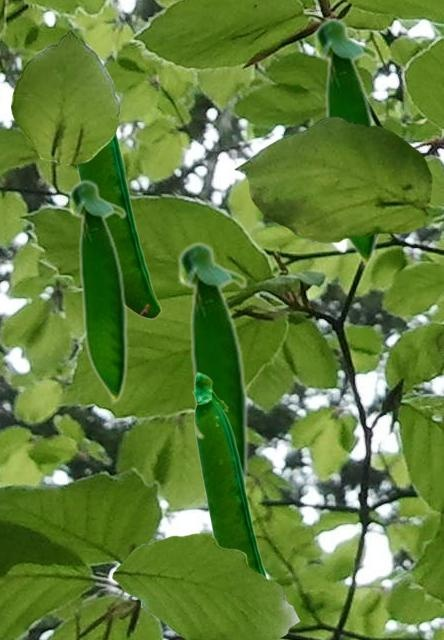pea: (176, 240, 248, 485), (312, 16, 379, 270), (76, 131, 160, 318), (192, 371, 267, 577), (67, 178, 127, 406)
